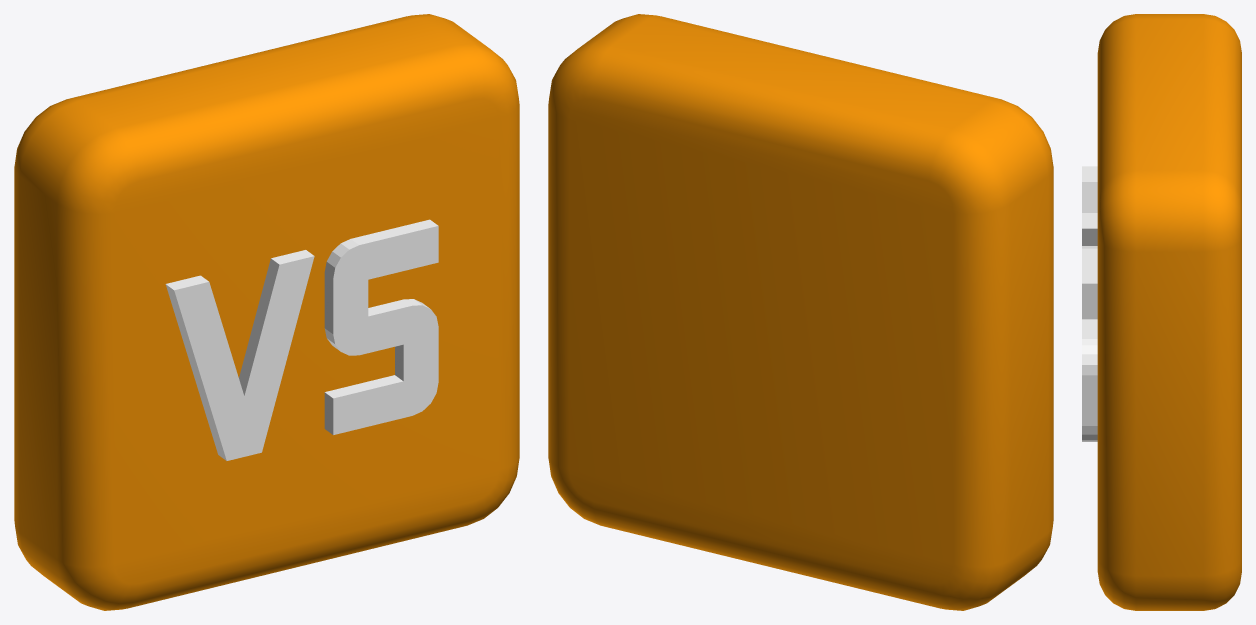
The model's file is vs_button.gltf.
The picture shows the model from 3 angles, left to right: view 1: azimuth 30°, elevation 25°; view 2: azimuth 150°, elevation 25°; view 3: azimuth 270°, elevation 25°; orthographic projection. The views are drawn at different scales.
Parts seen in each view (by area): view 1: Cube.6650, Plane.364; view 2: Cube.6650; view 3: Cube.6650, Plane.364.
Part boxes in pixels (x1,y1,x2,y2): Cube.6650: [14, 14, 519, 610]; Plane.364: [165, 219, 438, 460]; Cube.6650: [548, 14, 1053, 610]; Cube.6650: [1097, 14, 1241, 610]; Plane.364: [1082, 166, 1097, 441].
Bounding box in the file's own units: 2.2 × 2.2 × 0.732.
Materials: 1 (1 with a texture image).
